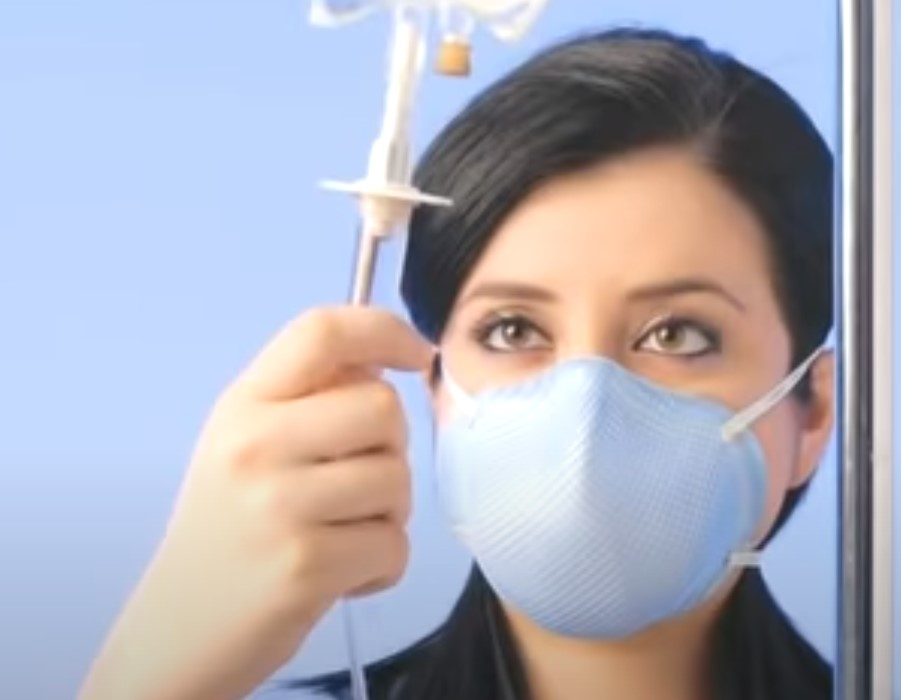face_with_mask: (404, 47, 835, 637)
